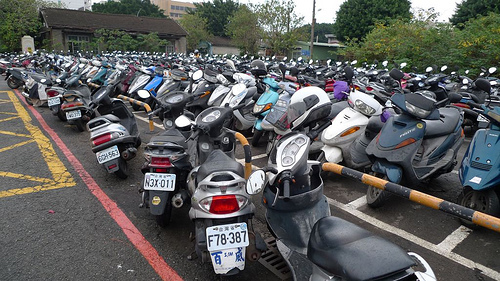Bike: (261, 122, 433, 281), (190, 108, 263, 280), (142, 86, 194, 221), (86, 85, 143, 179)
